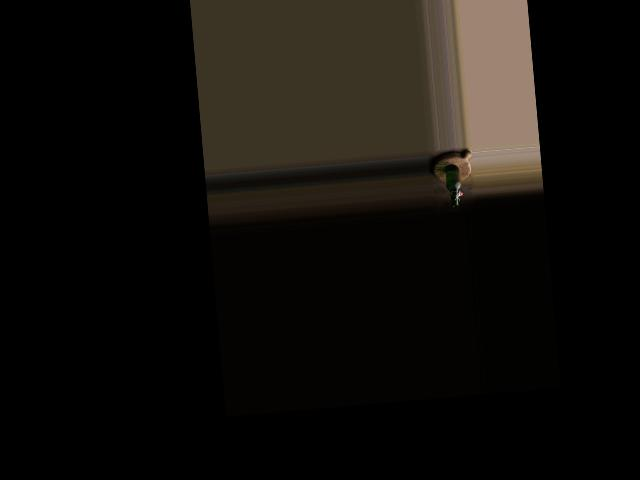beer: (445, 165, 462, 208)
